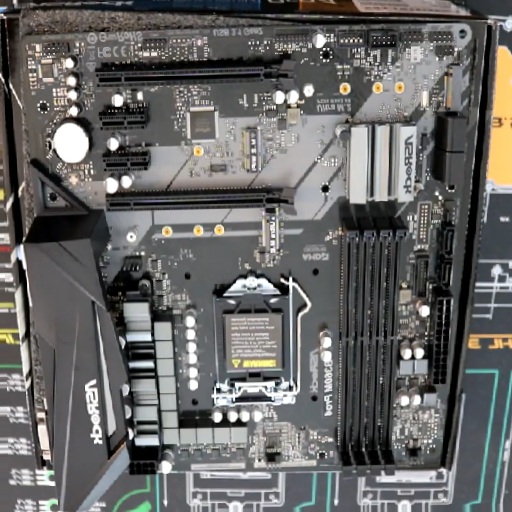CPU: (210, 272, 296, 408)
GPU: (96, 57, 297, 92), (104, 186, 299, 217)
MOTHERBOARD: (22, 22, 475, 475)
RAM: (340, 216, 410, 477)
SSD: (261, 213, 280, 254), (242, 128, 260, 171)
